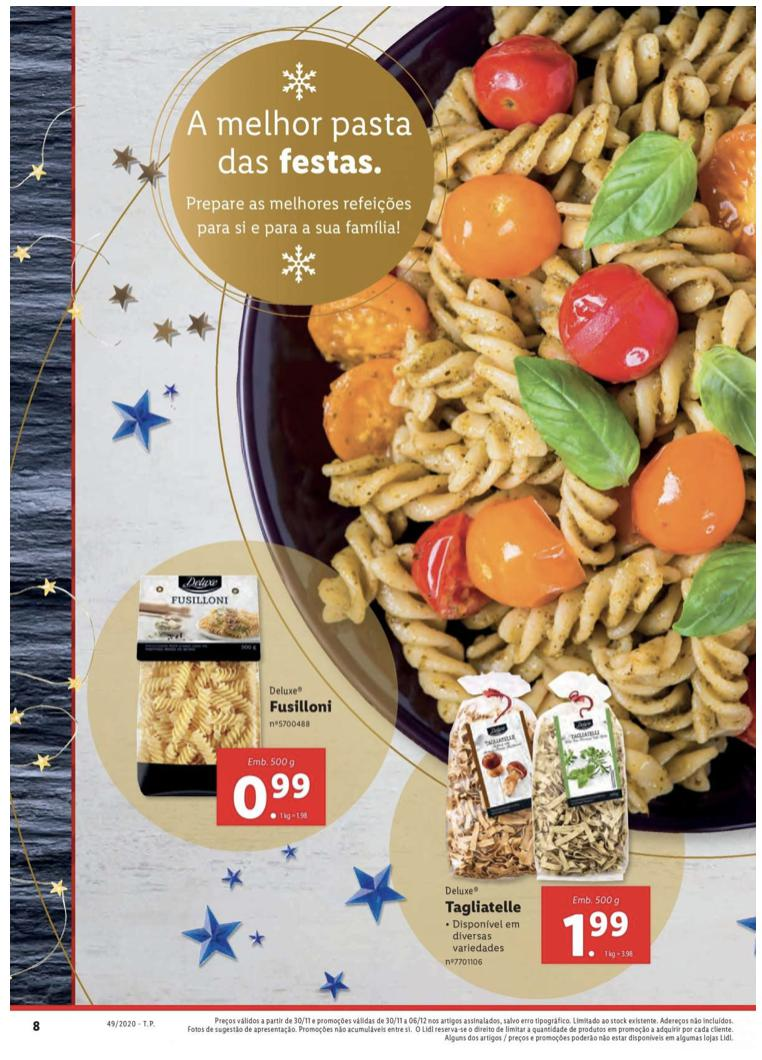name: (441, 896, 524, 919), (268, 697, 333, 718)
price: (227, 769, 319, 826), (562, 910, 639, 963)
product: (403, 667, 670, 975), (115, 550, 333, 843)
